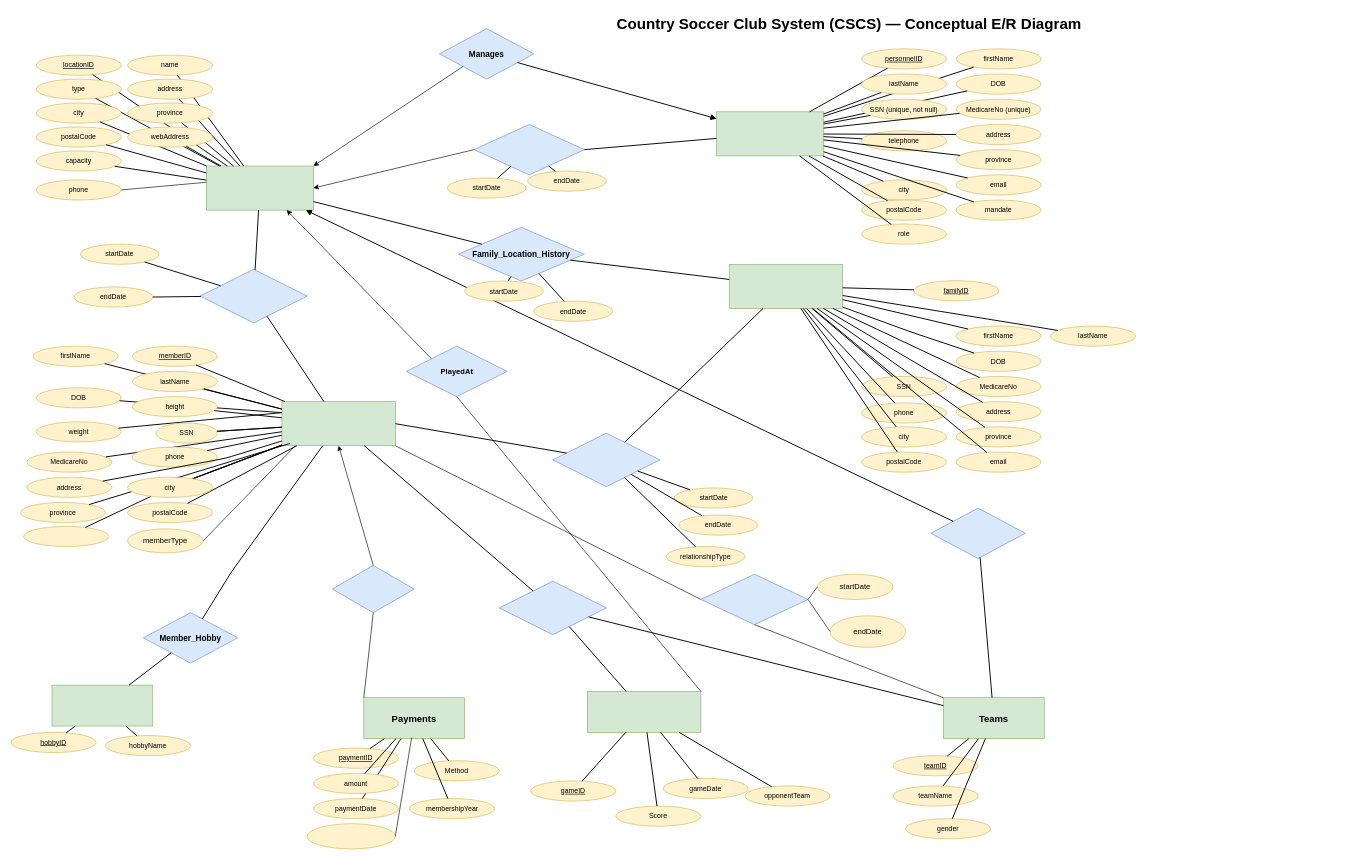
The diagram is 1364 pixels wide and 860 high, and some of its shapes have lost their labels. The centre of each missing label's shape, as x and y in pixels:
"BasedAt" belongs at point 977,532.
"BelongsTo" belongs at point 754,599.
"ClubMembers" belongs at point 338,423.
"FamilyMembers" belongs at point 786,286.
"FamilyRelationship" belongs at point 606,459.
"FIFA_Games" belongs at point 644,711.
"Game_Participation" belongs at point 552,608.
"Hobbies" belongs at point 102,705.
"installmentNumber" belongs at point 350,836.
"Locations" belongs at point 259,187.
"Makes" belongs at point 373,589.
"Member_Location_History" belongs at point 253,296.
"Personnel" belongs at point 770,133.
"Personnel_Assignment" belongs at point 528,149.
"registrationDate" belongs at point 66,536.
